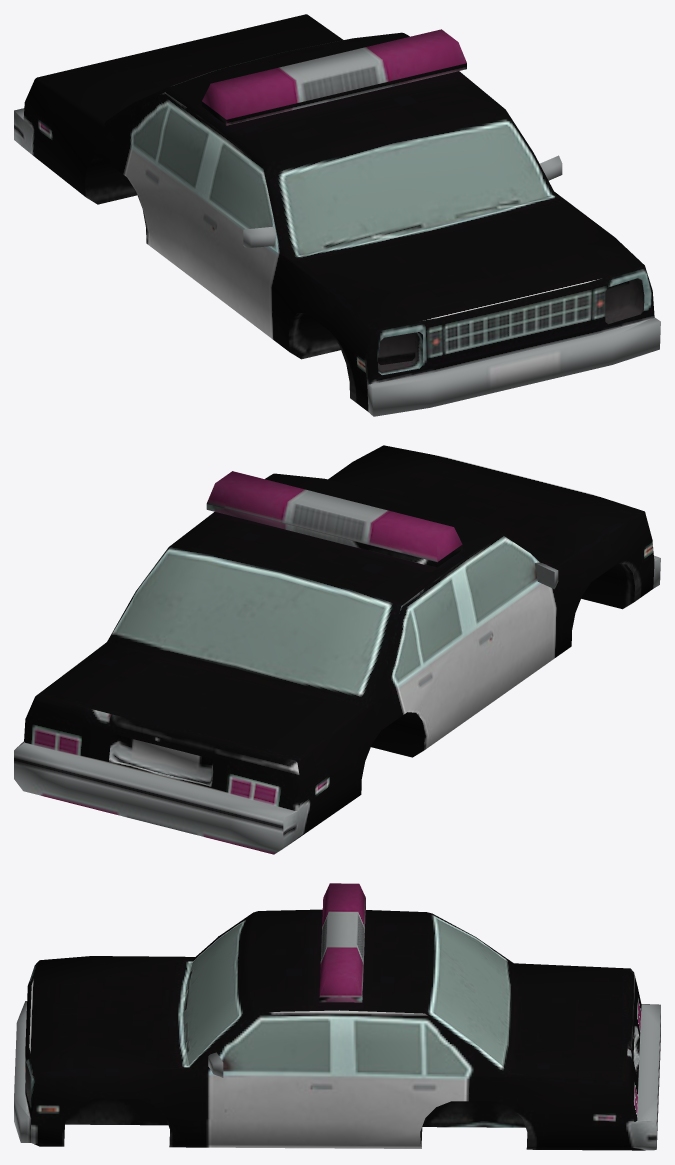
The model's file is car_2.fbx.
3 renders of one model, top to bottom at view 1: azimuth 30°, elevation 25°; view 2: azimuth 150°, elevation 25°; view 3: azimuth 270°, elevation 25°, orthographic. The views are drawn at different scales.
Parts seen in each view (by area): view 1: Object_14; view 2: Object_14; view 3: Object_14.
Boxes of the visible parts, x1,y1,x2,y2 form: Object_14: (14,14,660,416); Object_14: (14,445,660,854); Object_14: (14,883,660,1150).
Bounding box in the file's own units: 23.29 × 13.64 × 48.93.
